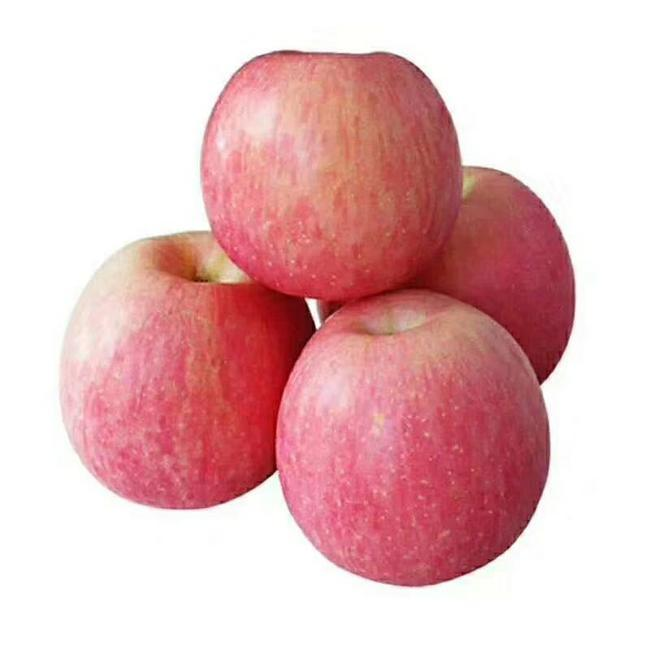apple: (272, 296, 550, 594), (58, 236, 313, 516), (198, 45, 460, 299), (426, 166, 576, 381)
